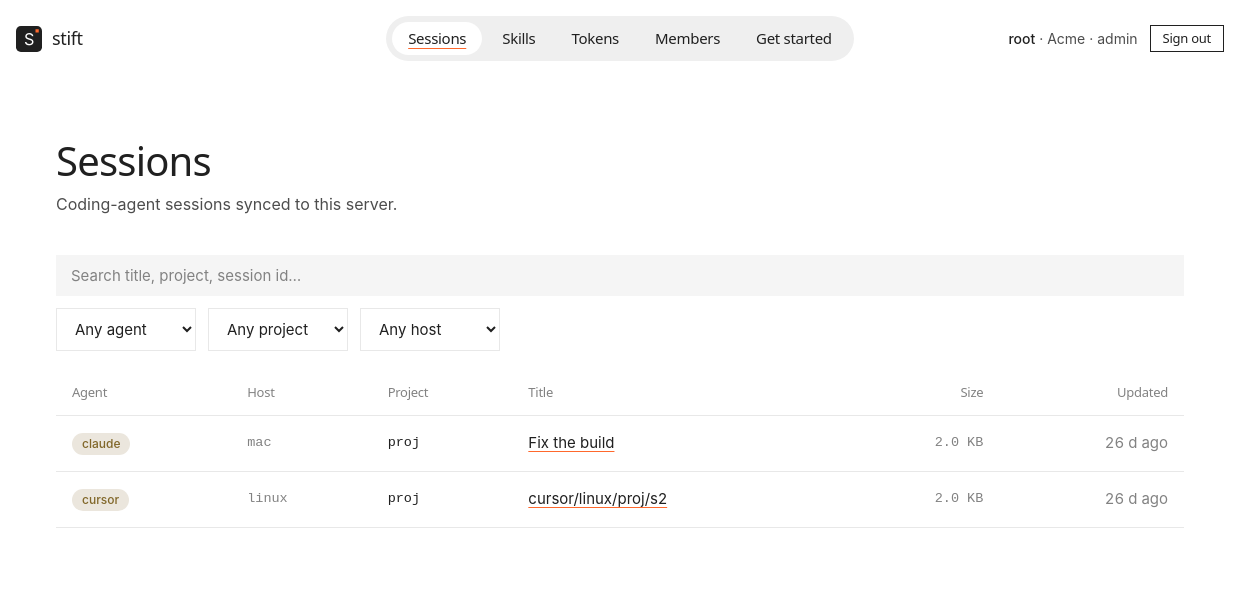
Test case: lists sessions and filters through the query string
Check: the link "Fix the build" is shown, box [528, 433, 614, 452]
Check: the link "cursor/linux/proj/s2" is shown, box [528, 489, 667, 508]
Select "cursor" in the dropdown named "Agent" at {"x": 126, "y": 330}, box [56, 308, 196, 351]
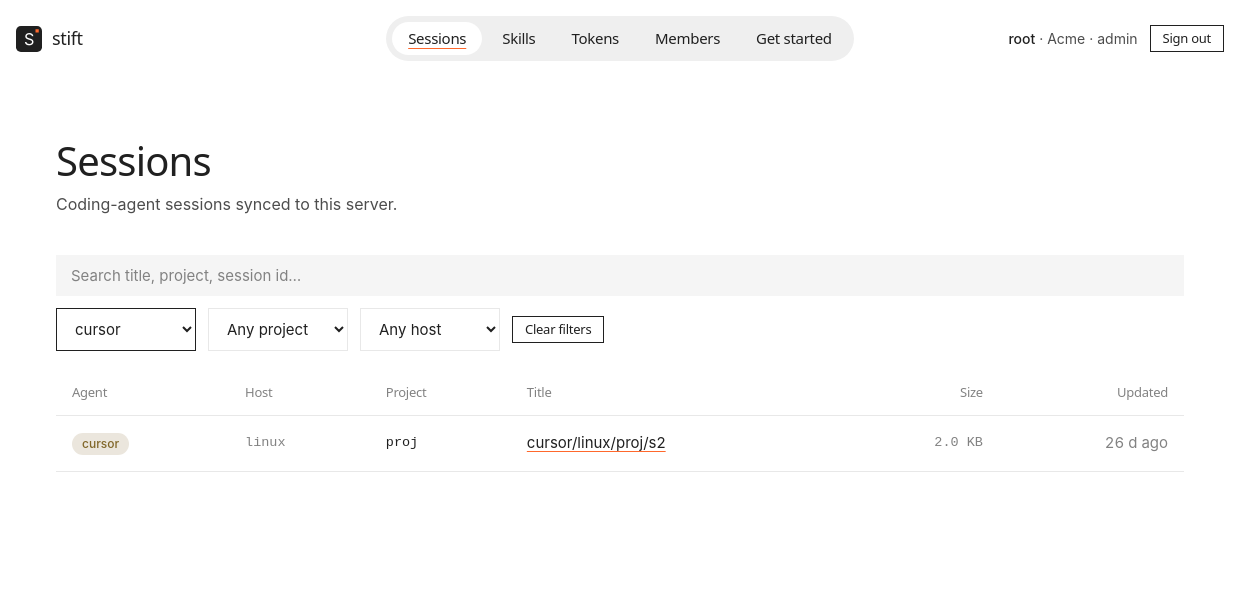
Check: the link "Fix the build" is gone
Type "Fix" into the search field labelled "Search".
click(620, 276); type("Fix")  # box [56, 255, 1184, 296]
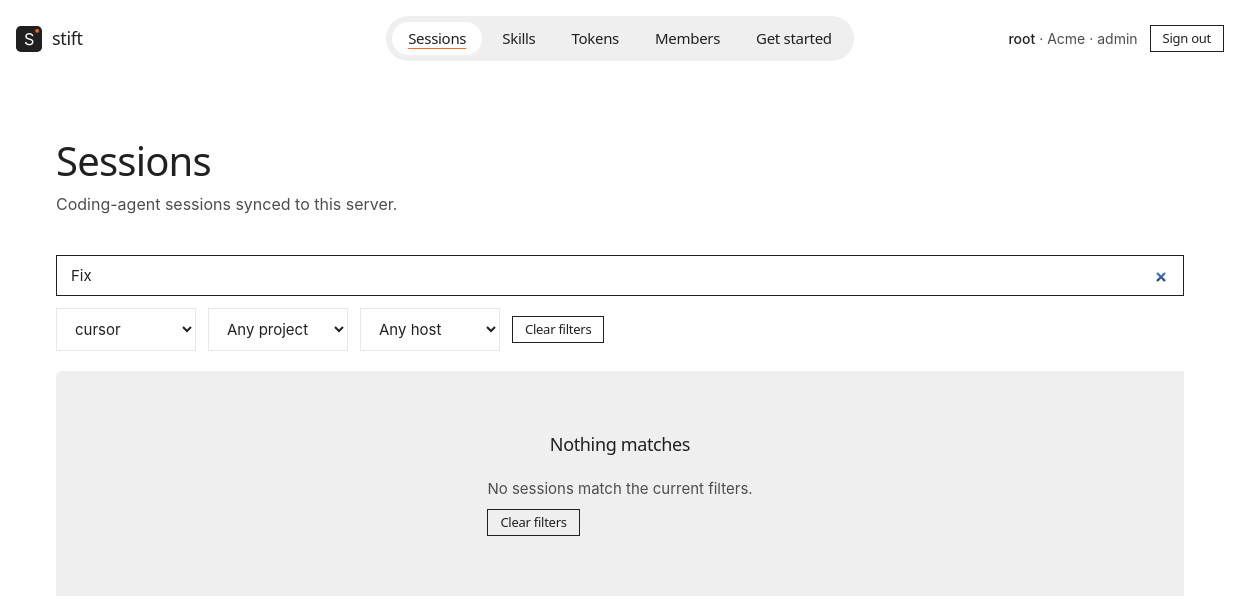
Check: the text "Nothing matches" is shown, box [550, 431, 690, 458]
Click the button "Clear filters" below "No sessions match the current filters.".
click(534, 522)  # box [487, 509, 580, 536]
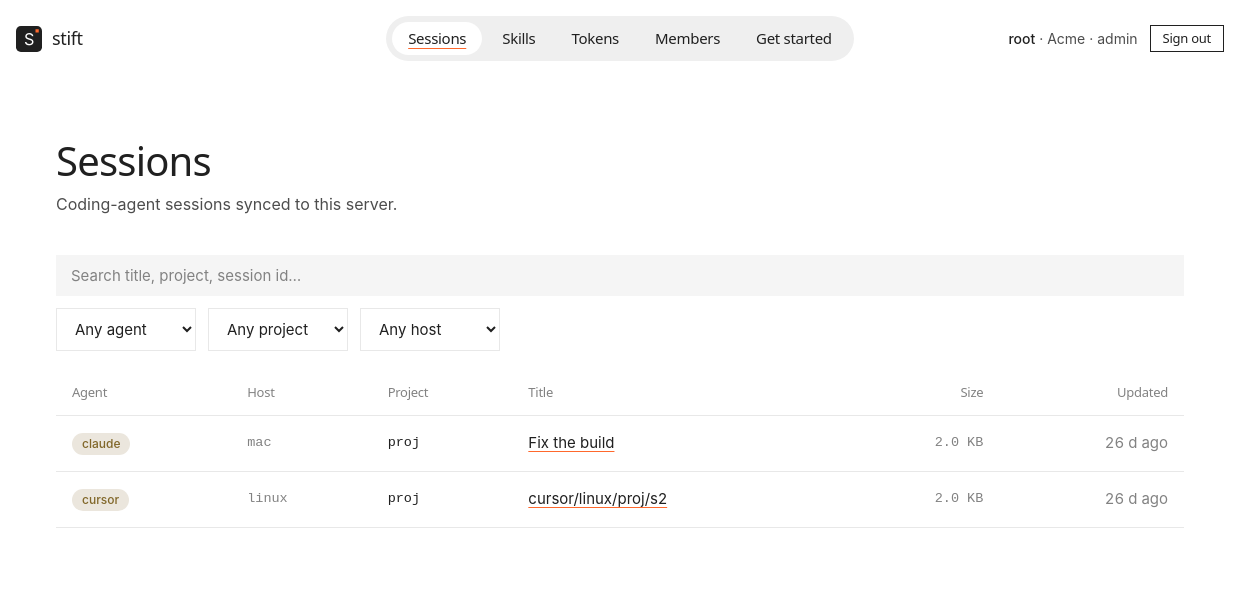
Check: the link "Fix the build" is shown, box [528, 433, 614, 452]
